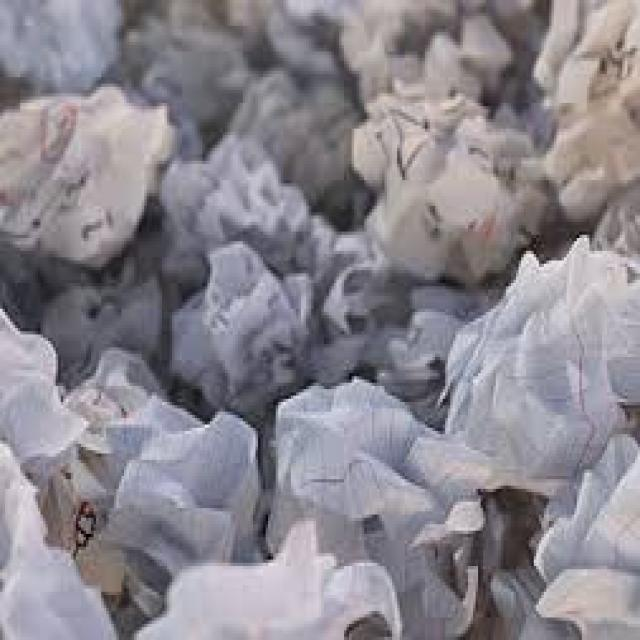paper: (263, 373, 493, 637), (56, 344, 261, 621), (435, 235, 638, 495), (347, 71, 547, 277), (119, 511, 392, 637), (159, 129, 344, 312), (0, 77, 175, 261), (7, 228, 205, 389), (321, 225, 478, 428), (494, 424, 638, 637), (532, 0, 638, 248), (334, 0, 544, 119), (167, 232, 309, 396), (0, 434, 114, 637), (223, 71, 372, 219), (0, 299, 86, 502), (111, 7, 248, 129), (0, 0, 121, 83), (76, 386, 131, 492)
